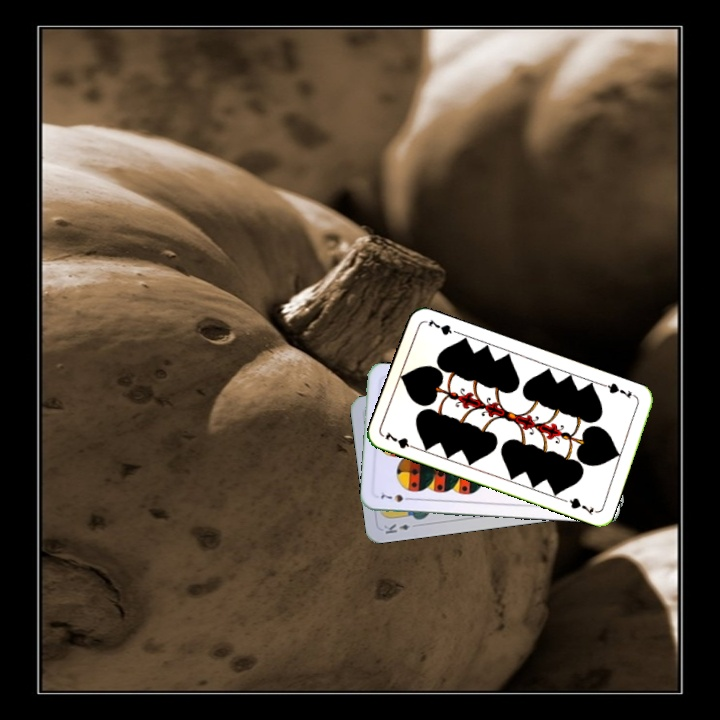EK: (380, 520, 412, 536)
G7: (381, 428, 420, 452), (599, 379, 639, 401)
S7: (377, 488, 415, 505)
